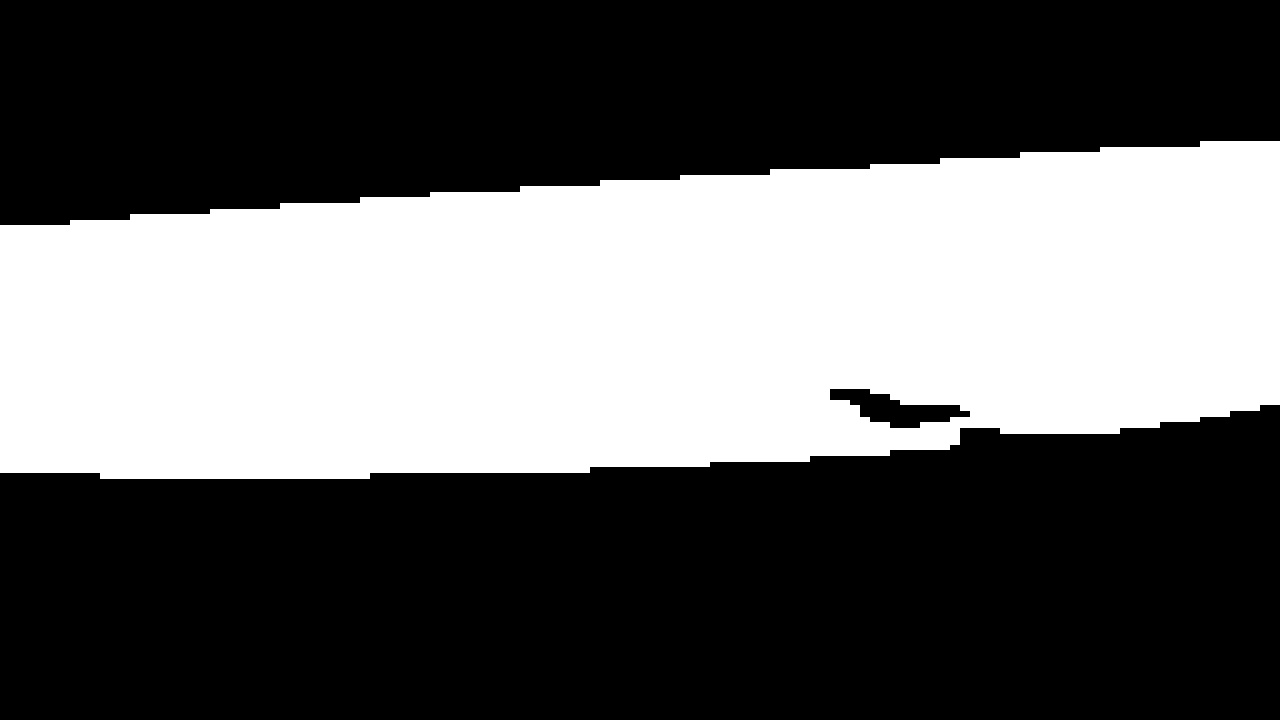Turbine: (8, 122, 1268, 508)
